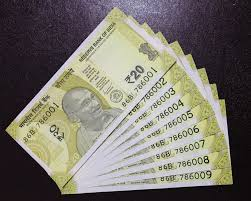twenty: (36, 43, 148, 160)
